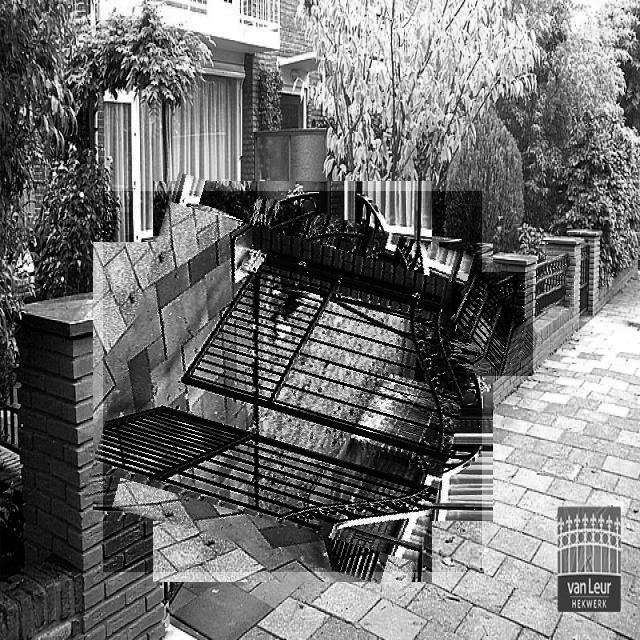fences: (103, 191, 482, 572), (452, 272, 533, 376), (536, 256, 575, 313)
